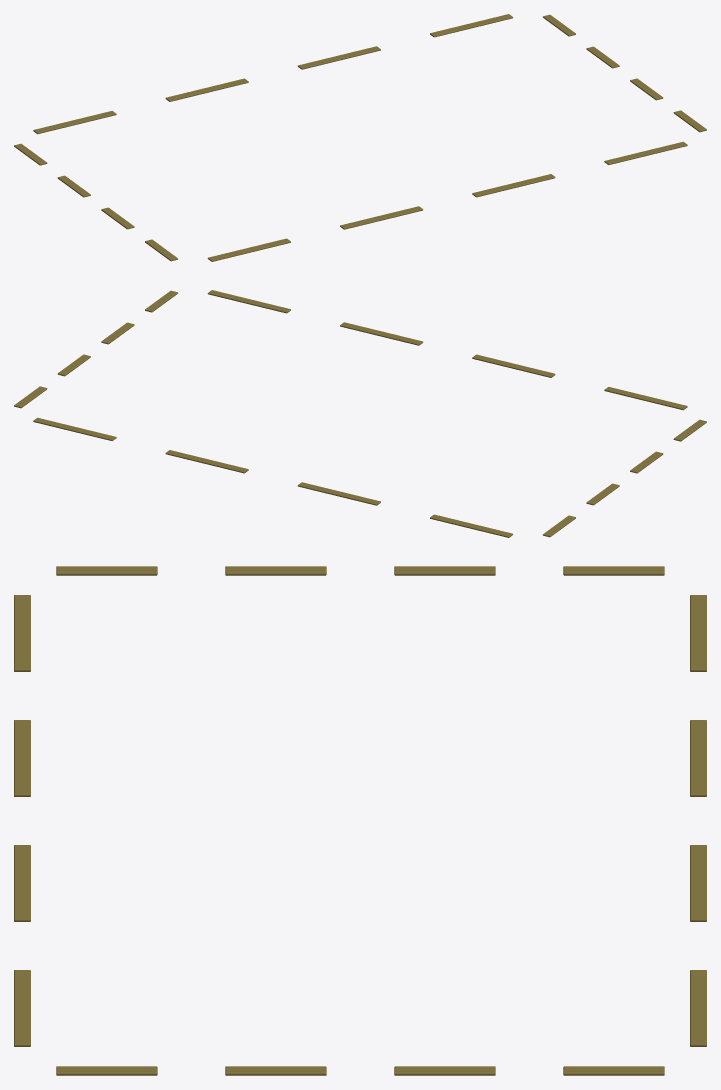
The model's file is base_zone_frame.glb.
3 renders of one model, top to bottom at view 1: azimuth 30°, elevation 25°; view 2: azimuth 150°, elevation 25°; view 3: azimuth 270°, elevation 25°, orthographic. The views are drawn at different scales.
Visible parts, largest first — view 1: base_zone_frame; view 2: base_zone_frame; view 3: base_zone_frame.
Boxes of the visible parts, <box> form: base_zone_frame: <box>14,14,706,261</box>; base_zone_frame: <box>14,290,706,537</box>; base_zone_frame: <box>14,566,706,1075</box>.
Size of the model in its own units: 5.68 by 0.015 by 3.28.
1 material, 1 textured.
